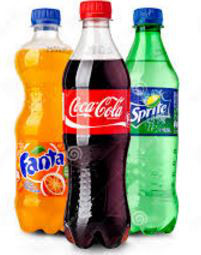coke: (67, 1, 130, 247)
